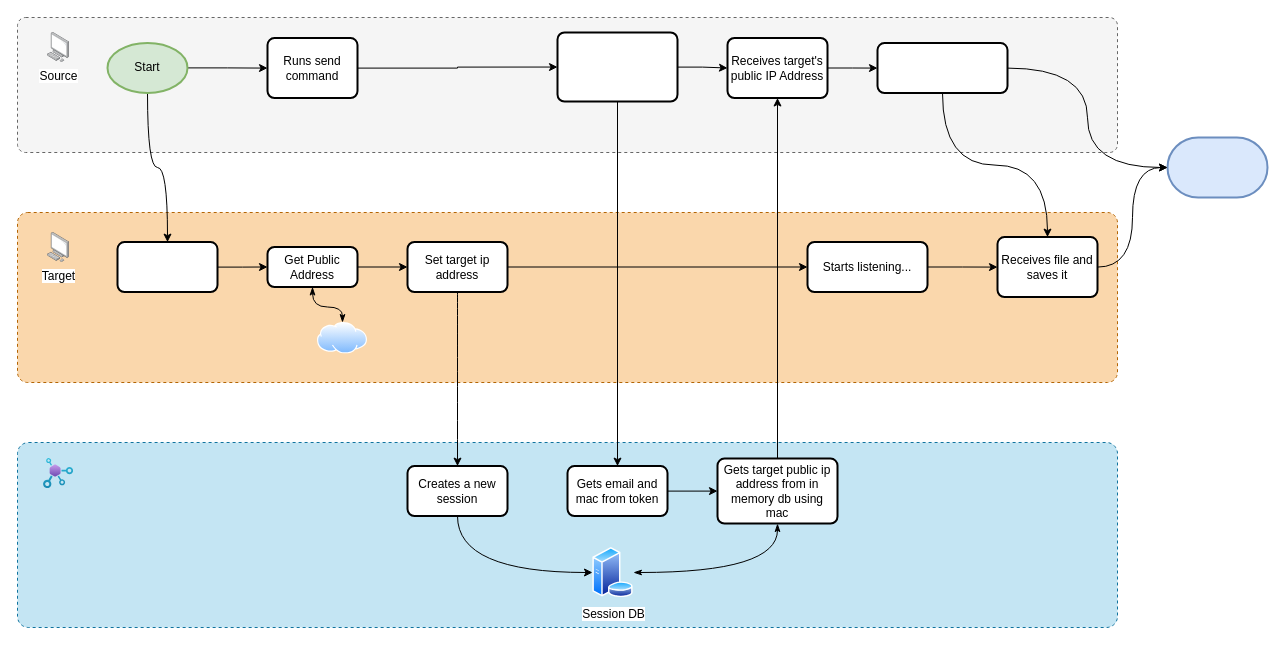
Some shapes in this 1286 by 645 pixel diagram are drawn without their labels. The centre of each missing label's shape, as x and y in pixels:
"API" belongs at (x=58, y=473).
"Call API to get target device's Public IP address" belongs at (x=617, y=66).
"Completed" belongs at (x=1217, y=167).
"Runs Listen command" belongs at (x=167, y=267).
"Sends file to target device" belongs at (x=942, y=68).
"STUN" belongs at (x=342, y=338).
